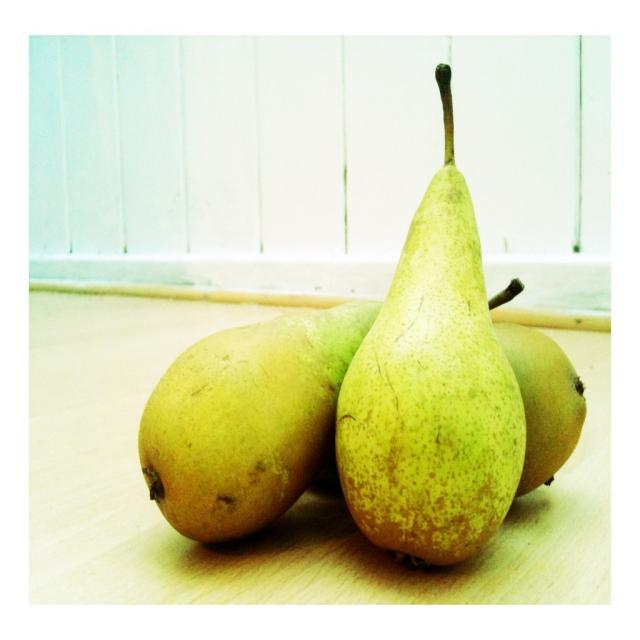pear: (334, 164, 525, 560), (135, 294, 387, 550), (489, 322, 587, 507)
